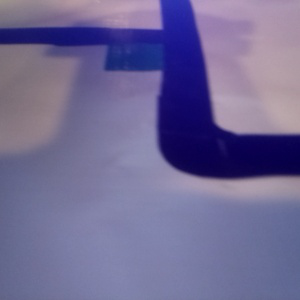bottom_left: (104, 32, 196, 71)
